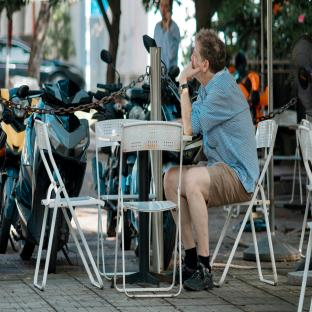Human: (163, 28, 259, 291), (169, 267, 180, 281)
